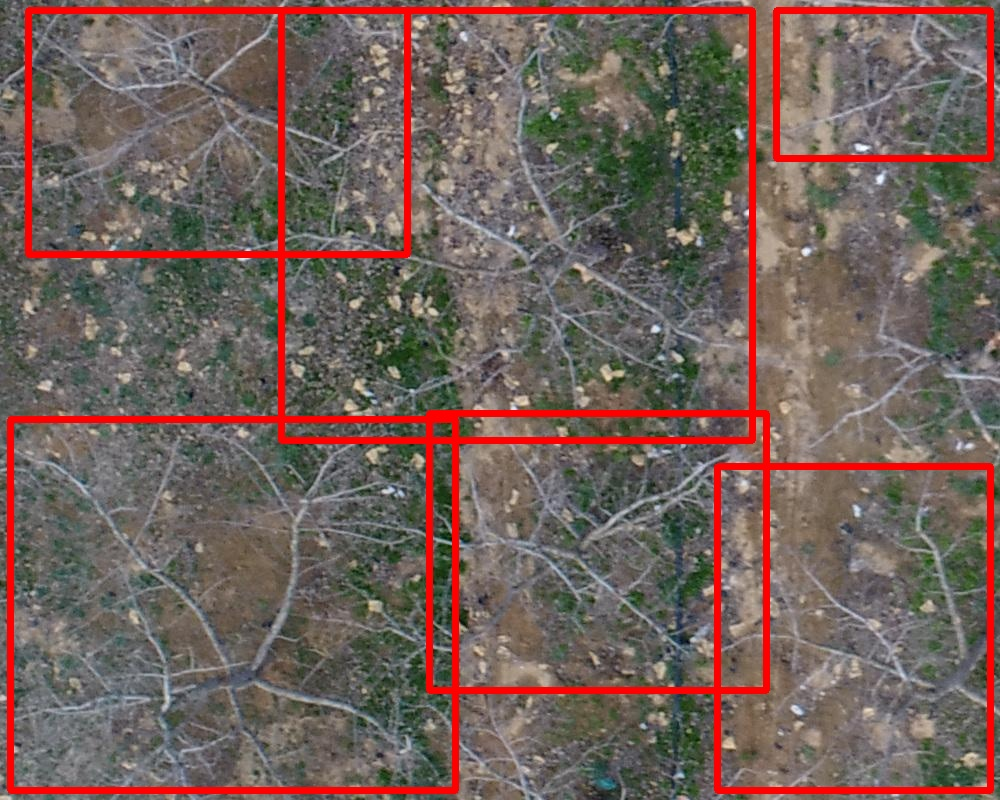apple: (281, 10, 752, 440), (10, 419, 455, 790), (429, 413, 766, 690), (28, 10, 407, 254), (717, 466, 990, 790), (776, 10, 990, 158)
